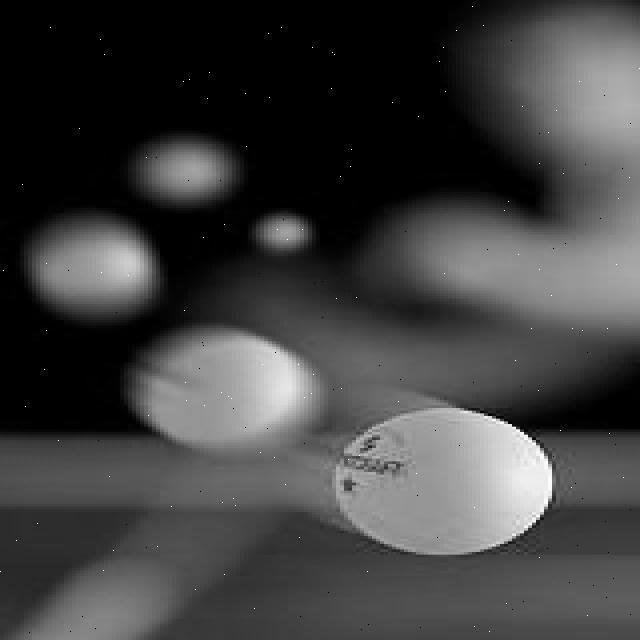ping-pong-ball: (332, 408, 558, 554), (132, 326, 320, 454), (26, 211, 160, 321), (136, 136, 235, 204), (258, 213, 310, 252)
